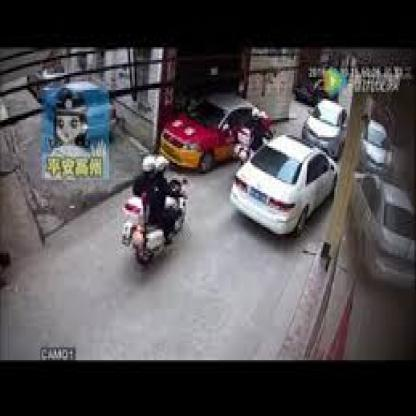car: (231, 132, 355, 260), (116, 147, 205, 269), (158, 80, 270, 175), (295, 87, 348, 153)
